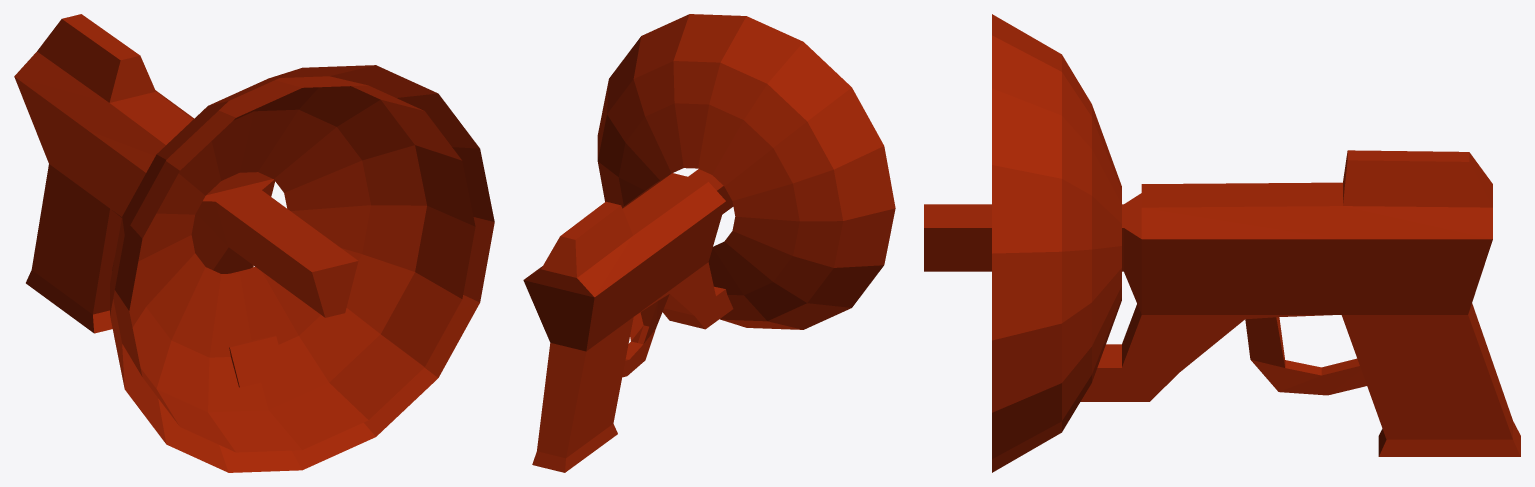
File: weapon.obj
3 renders of one model, left to right at view 1: azimuth 30°, elevation 25°; view 2: azimuth 150°, elevation 25°; view 3: azimuth 270°, elevation 25°, orthographic. The views are drawn at different scales.
Visible parts, largest first — view 1: Cube.003_Cube.013; view 2: Cube.003_Cube.013; view 3: Cube.003_Cube.013.
Boxes of the visible parts, <box> form: Cube.003_Cube.013: <box>14,14,494,472</box>; Cube.003_Cube.013: <box>523,14,895,472</box>; Cube.003_Cube.013: <box>924,14,1520,472</box>.
Bounding box in the file's own units: 0.46 × 0.46 × 0.5975.
